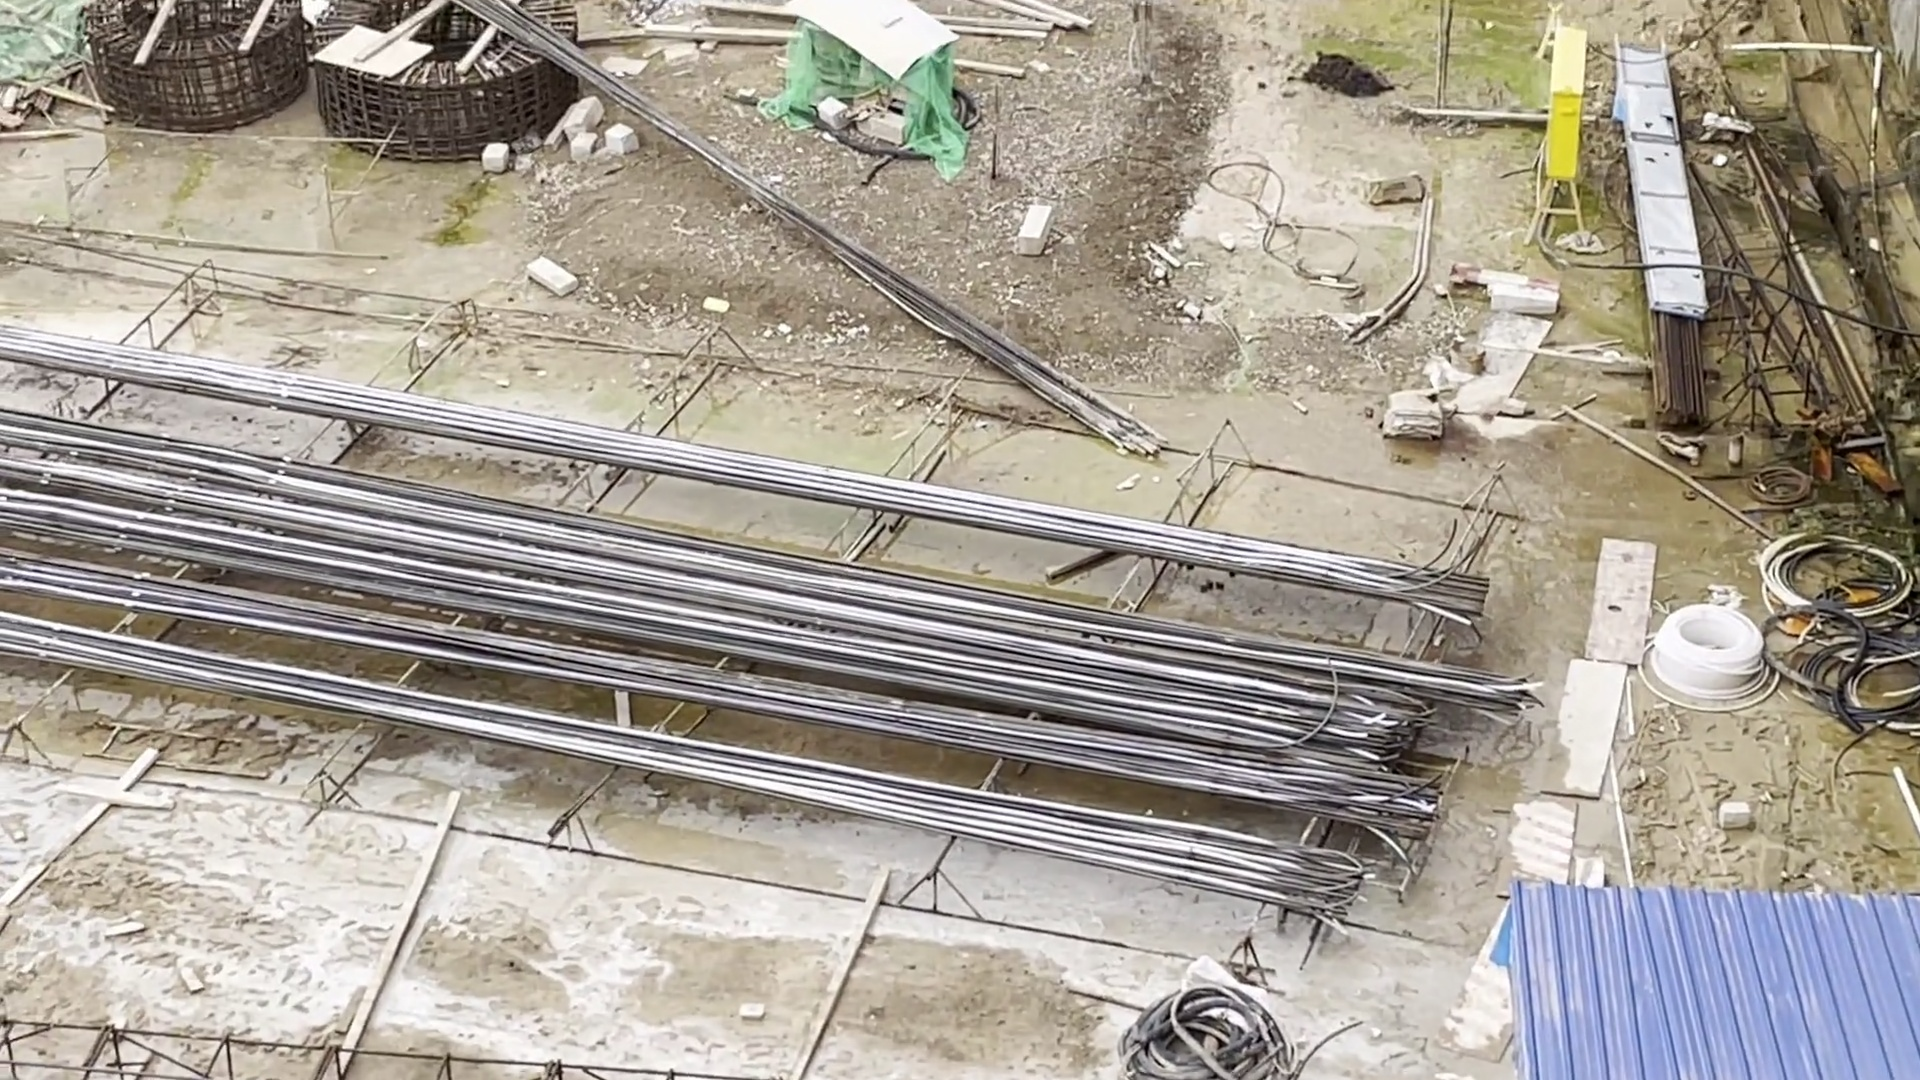ebox: (1511, 26, 1623, 247)
rebar: (1, 318, 1462, 924)
